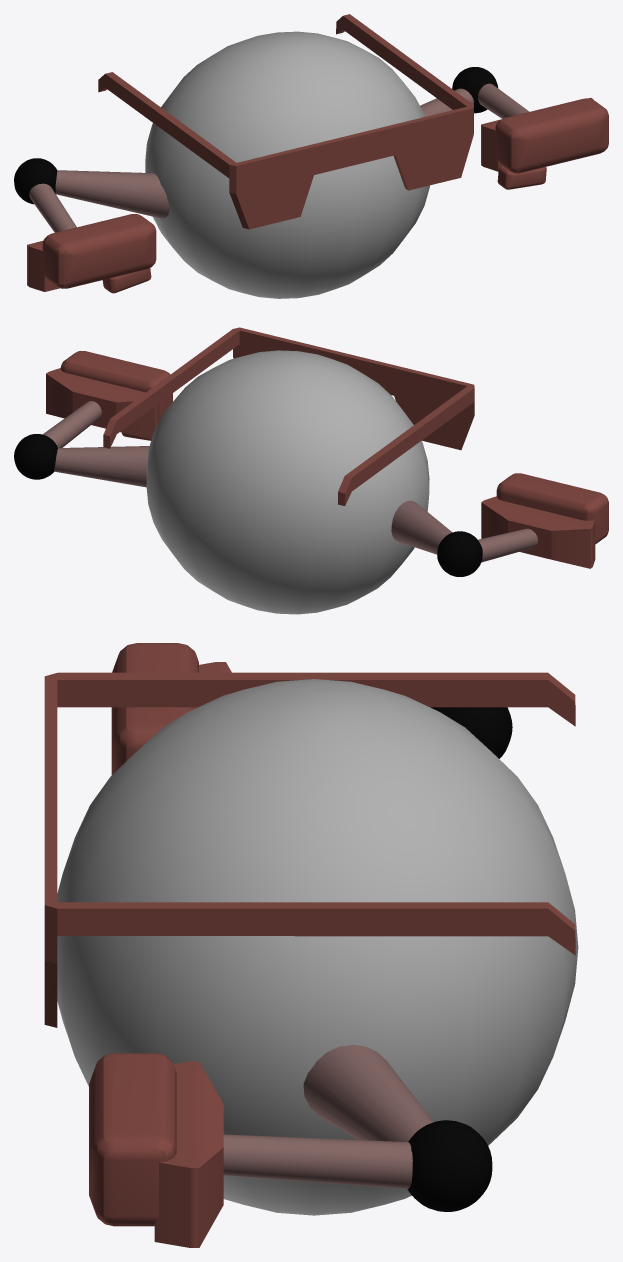
File: player1.fbx
3 renders of one model, top to bottom at view 1: azimuth 30°, elevation 25°; view 2: azimuth 150°, elevation 25°; view 3: azimuth 270°, elevation 25°, orthographic. The views are drawn at different scales.
Visible parts, largest first — view 1: pSphere1, pCube3, pCube4, pCube6, pCylinder3, pasted__pSphere5, pCylinder4, pCylinder2, pasted__pSphere1, pCube2, pCube7, pCube1 (+2 smaller); view 2: pSphere1, pCube3, pCube2, pCube1, pCube4, pCylinder1, pCube6, pCylinder3, pasted__pSphere5, pasted__pSphere1, pCylinder2, pCylinder4; view 3: pSphere1, pCube3, pCube6, pCube1, pCylinder2, pCylinder1, pasted__pSphere1, pCube4, pasted__pSphere5.
Boxes of the visible parts, x1=… form: pSphere1: x1=145, y1=31, x2=429, y2=298; pCube3: x1=98, y1=14, x2=473, y2=229; pCube4: x1=42, y1=214, x2=156, y2=288; pCube6: x1=495, y1=98, x2=608, y2=173; pCylinder3: x1=55, y1=170, x2=169, y2=218; pasted__pSphere5: x1=14, y1=158, x2=57, y2=204; pCylinder4: x1=29, y1=183, x2=76, y2=232; pCylinder2: x1=478, y1=83, x2=529, y2=118; pasted__pSphere1: x1=452, y1=67, x2=498, y2=113; pCube2: x1=27, y1=240, x2=59, y2=291; pCube7: x1=497, y1=166, x2=546, y2=189; pCube1: x1=481, y1=97, x2=593, y2=171; pSphere1: x1=146, y1=350, x2=429, y2=614; pCube3: x1=103, y1=327, x2=474, y2=505; pCube2: x1=481, y1=496, x2=595, y2=568; pCube1: x1=46, y1=368, x2=159, y2=439; pCube4: x1=496, y1=473, x2=608, y2=544; pCylinder1: x1=54, y1=446, x2=149, y2=487; pCube6: x1=60, y1=350, x2=172, y2=419; pCylinder3: x1=391, y1=500, x2=452, y2=554; pasted__pSphere5: x1=437, y1=531, x2=482, y2=576; pasted__pSphere1: x1=14, y1=434, x2=57, y2=479; pCylinder2: x1=42, y1=401, x2=101, y2=447; pCylinder4: x1=478, y1=528, x2=537, y2=562; pSphere1: x1=57, y1=679, x2=578, y2=1215; pCube3: x1=44, y1=672, x2=575, y2=1027; pCube6: x1=89, y1=1053, x2=176, y2=1226; pCube1: x1=154, y1=1061, x2=223, y2=1247; pCylinder2: x1=223, y1=1134, x2=412, y2=1188; pCylinder1: x1=303, y1=1044, x2=433, y2=1141; pasted__pSphere1: x1=407, y1=1120, x2=492, y2=1211; pCube4: x1=111, y1=643, x2=198, y2=774; pasted__pSphere5: x1=430, y1=707, x2=512, y2=758.
Bounding box in the file's own units: 15.7 × 6.48 × 6.59.
